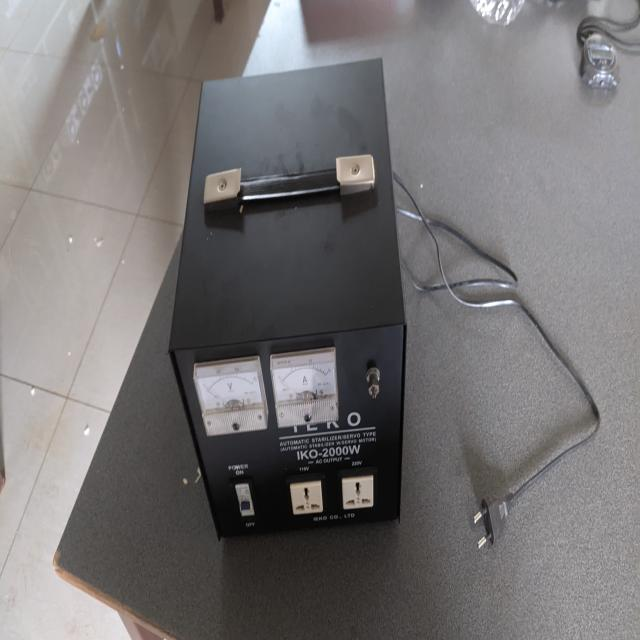AC POWER Stabilizer: (165, 47, 416, 554)
